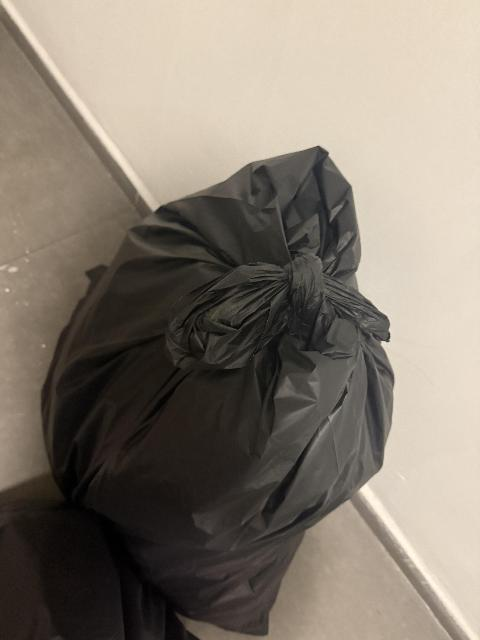Plastik: (55, 146, 397, 627), (2, 489, 199, 640)
